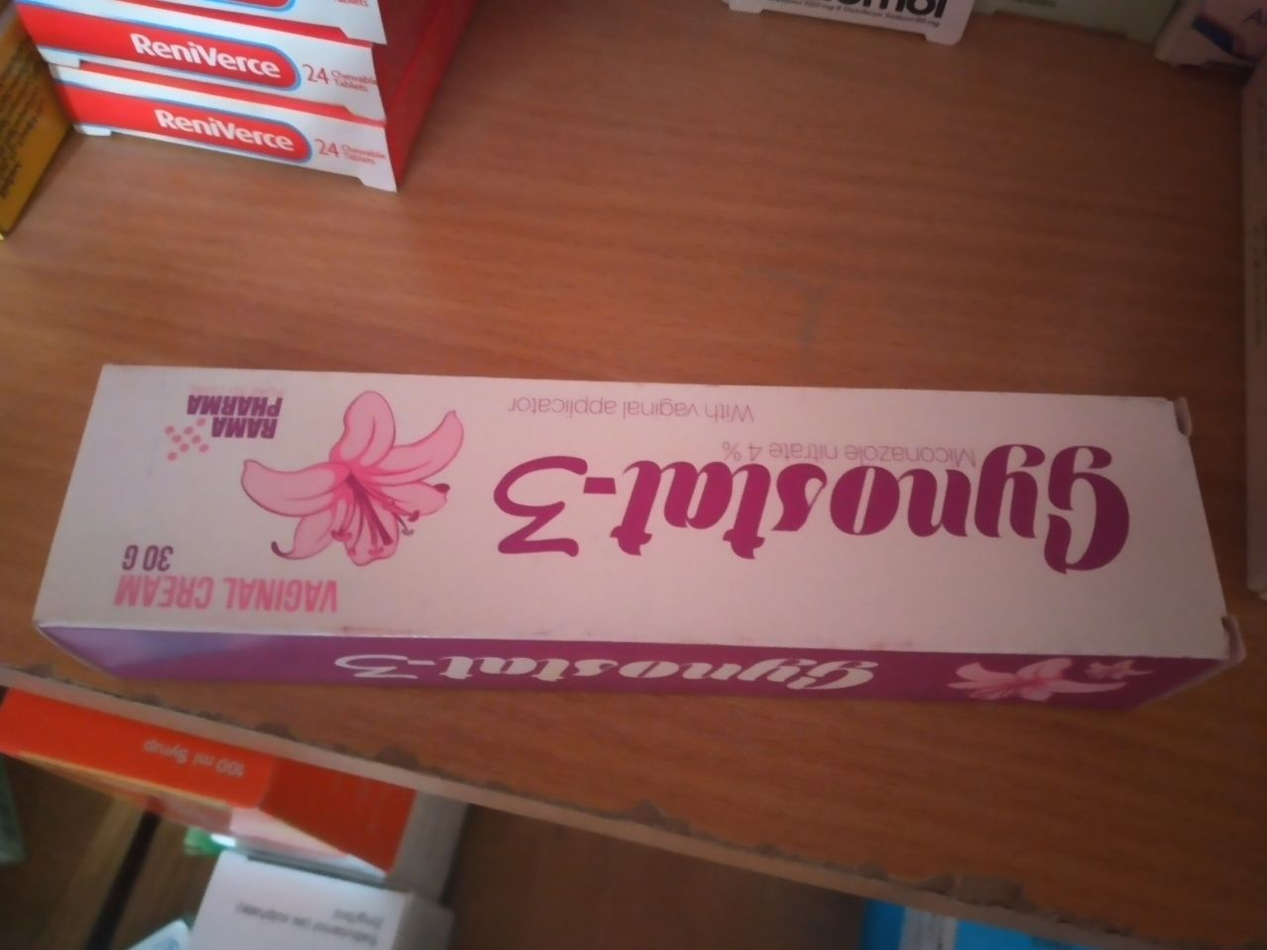Medicine: (25, 356, 1247, 737)
